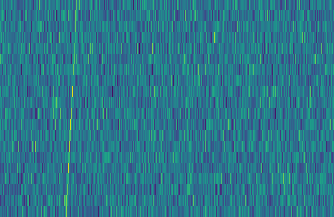signal: (59, 0, 79, 217)
